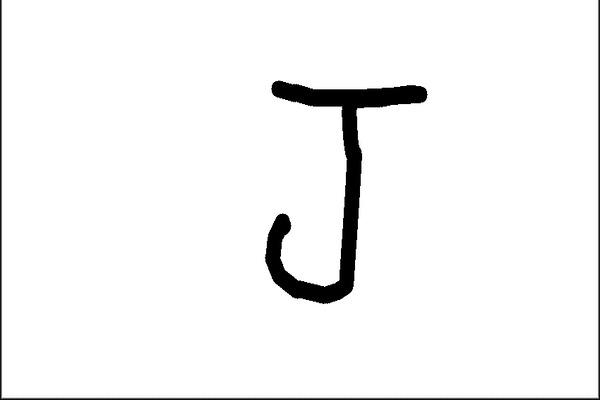J: (253, 72, 432, 310)
